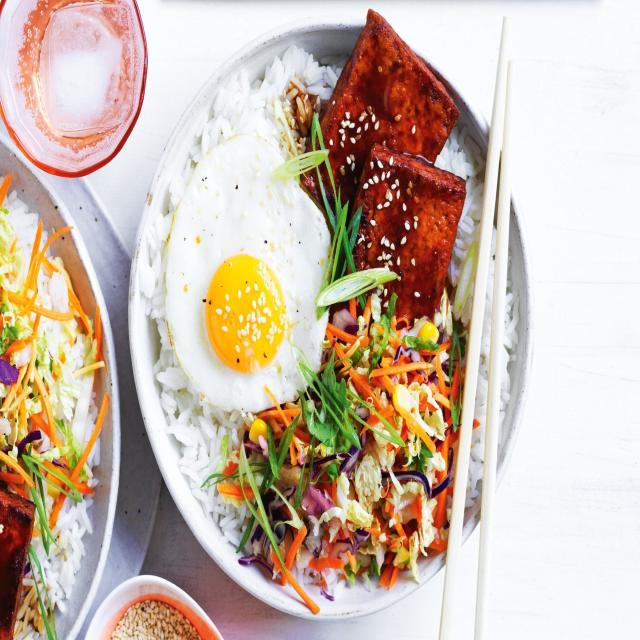Egg: (166, 135, 329, 412)
Green veg: (209, 205, 461, 614), (274, 150, 326, 178)
Rice: (140, 44, 345, 549), (38, 320, 101, 453), (466, 230, 496, 506), (31, 492, 93, 624), (435, 125, 483, 282), (0, 189, 40, 289), (500, 292, 519, 430), (37, 255, 72, 312), (16, 589, 45, 640)
Tofu: (319, 10, 466, 320), (0, 487, 35, 640)
